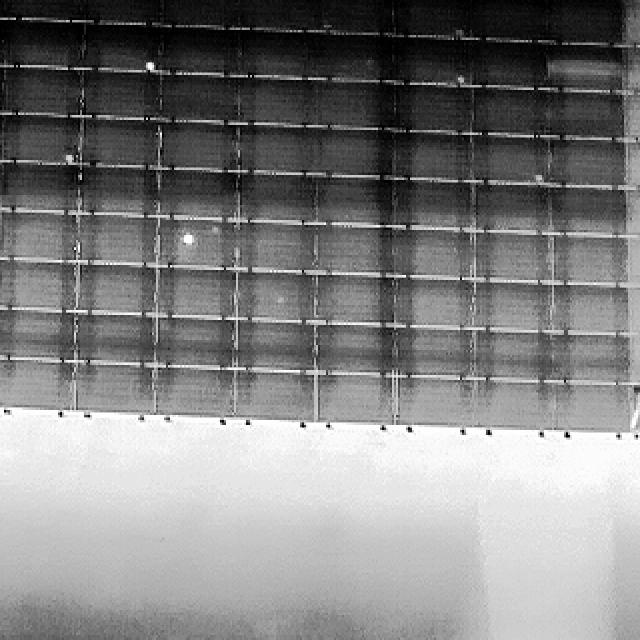Hotspots: (54, 145, 80, 167), (524, 167, 549, 186), (178, 228, 198, 250), (453, 67, 469, 87), (143, 56, 157, 74)
PV-modules: (553, 383, 638, 437), (549, 331, 632, 386), (156, 316, 240, 369), (73, 216, 157, 268), (234, 174, 316, 227), (158, 169, 243, 220), (312, 274, 395, 326), (232, 322, 315, 374), (391, 228, 474, 280), (233, 270, 314, 323), (312, 178, 396, 229), (234, 370, 316, 422), (71, 364, 153, 416), (311, 35, 396, 85), (312, 326, 396, 376), (470, 380, 554, 430), (311, 229, 393, 280), (154, 268, 236, 319), (78, 168, 160, 219), (152, 369, 234, 420), (0, 210, 80, 262), (313, 376, 393, 428), (394, 377, 474, 429), (312, 128, 395, 178), (5, 21, 86, 72), (156, 73, 240, 122), (72, 314, 154, 364), (472, 329, 552, 380), (550, 282, 630, 333), (395, 325, 473, 377), (472, 181, 550, 233), (390, 182, 471, 232), (312, 80, 396, 128), (160, 28, 244, 76), (2, 116, 82, 166), (390, 132, 470, 182), (80, 118, 160, 168), (550, 237, 630, 287), (0, 165, 80, 215), (394, 84, 474, 134), (391, 278, 471, 328), (236, 125, 316, 175), (238, 76, 318, 126), (234, 226, 314, 276), (546, 137, 627, 186), (73, 264, 154, 313), (4, 66, 83, 116), (544, 92, 626, 140), (157, 122, 239, 170), (78, 66, 158, 115), (472, 234, 552, 283), (0, 260, 78, 310), (236, 31, 314, 81), (80, 21, 158, 71), (0, 358, 72, 412), (549, 186, 628, 235), (0, 308, 74, 360), (472, 280, 552, 328), (467, 40, 547, 88), (548, 45, 628, 93), (163, 222, 238, 273), (472, 87, 547, 137), (391, 38, 466, 88), (470, 134, 548, 182), (546, 0, 626, 42), (466, 0, 548, 38), (390, 0, 466, 38), (316, 0, 392, 35), (240, 0, 320, 32), (82, 0, 164, 25), (164, 0, 244, 25), (6, 0, 84, 22), (624, 93, 640, 142), (624, 188, 640, 236), (624, 46, 640, 93), (625, 238, 640, 288), (625, 138, 640, 187), (626, 334, 640, 385), (624, 0, 640, 44), (626, 283, 640, 333), (0, 20, 6, 70), (0, 62, 6, 112), (0, 112, 4, 162), (0, 0, 8, 20), (0, 160, 2, 210)
